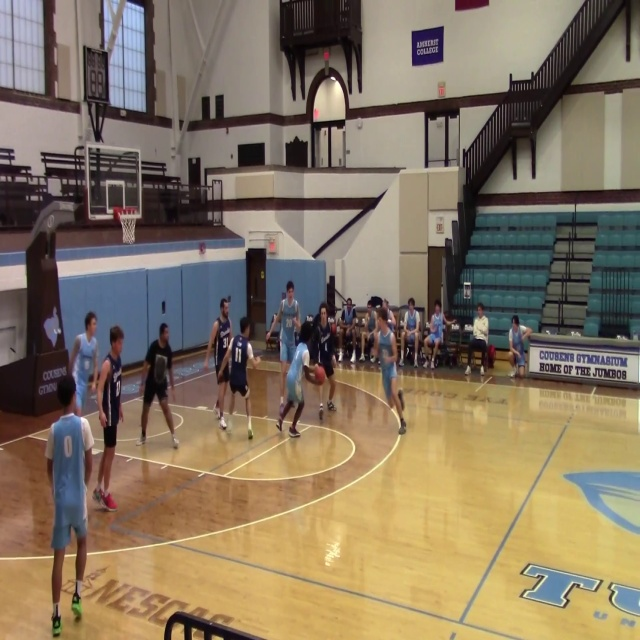Basketball: (305, 364, 326, 385), (314, 365, 326, 384)
